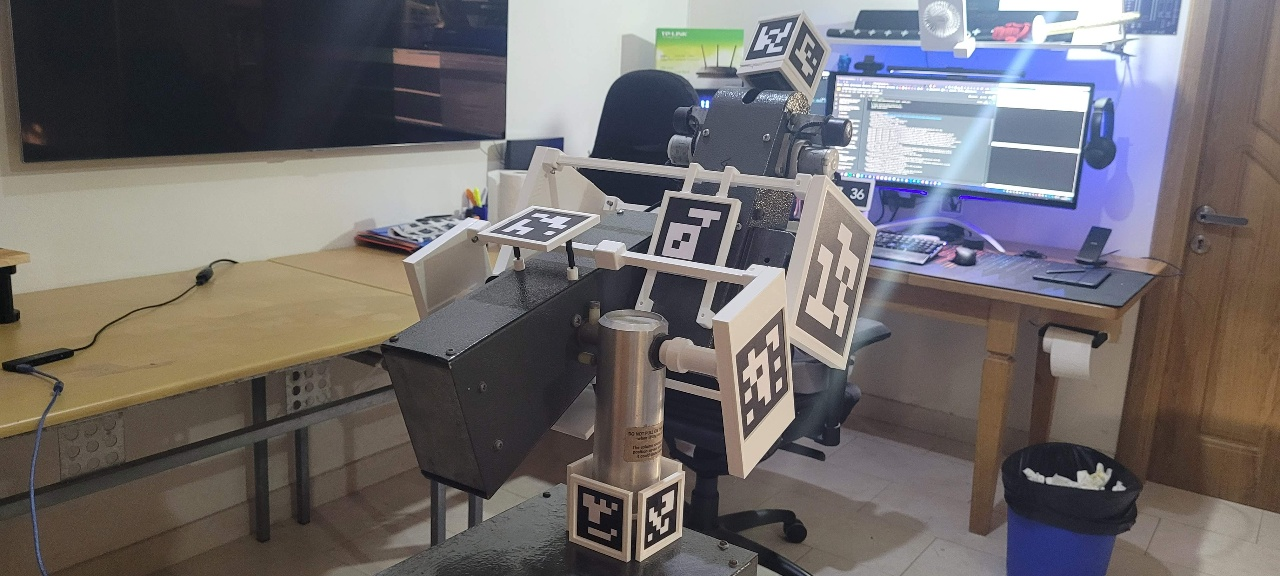Robot: (322, 15, 864, 576)
